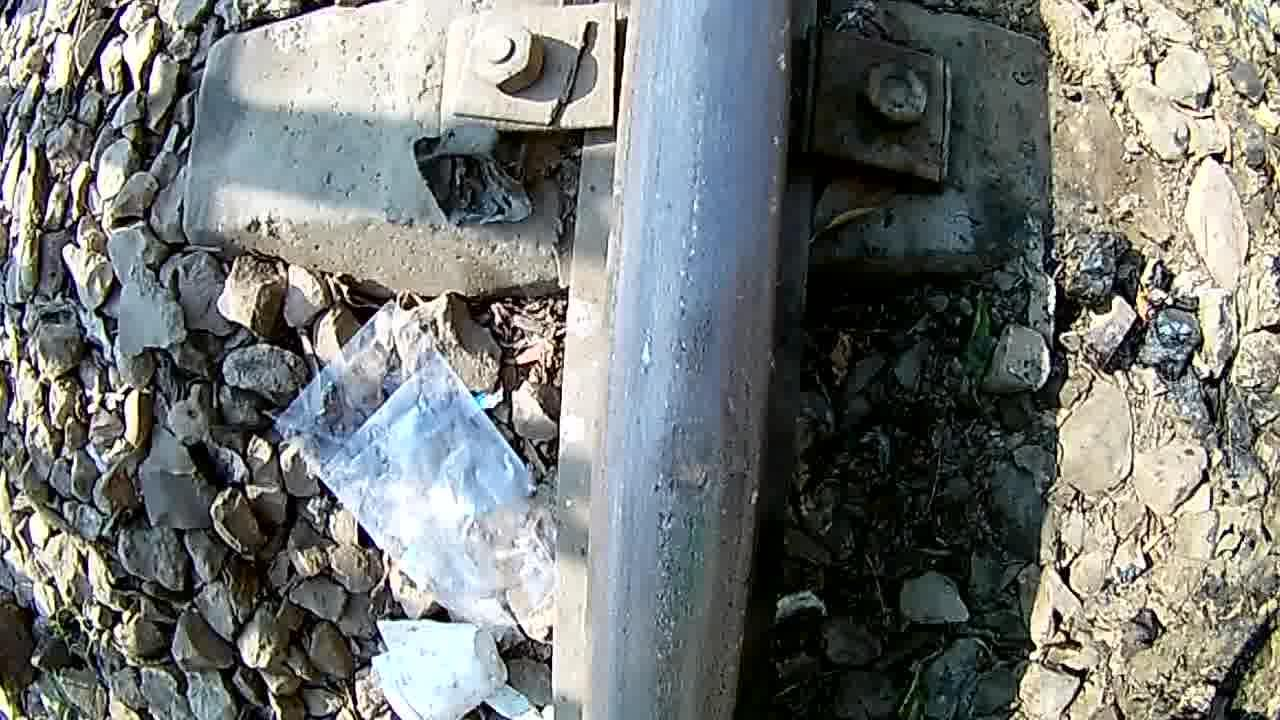bolt_missing: (625, 359, 757, 582)
